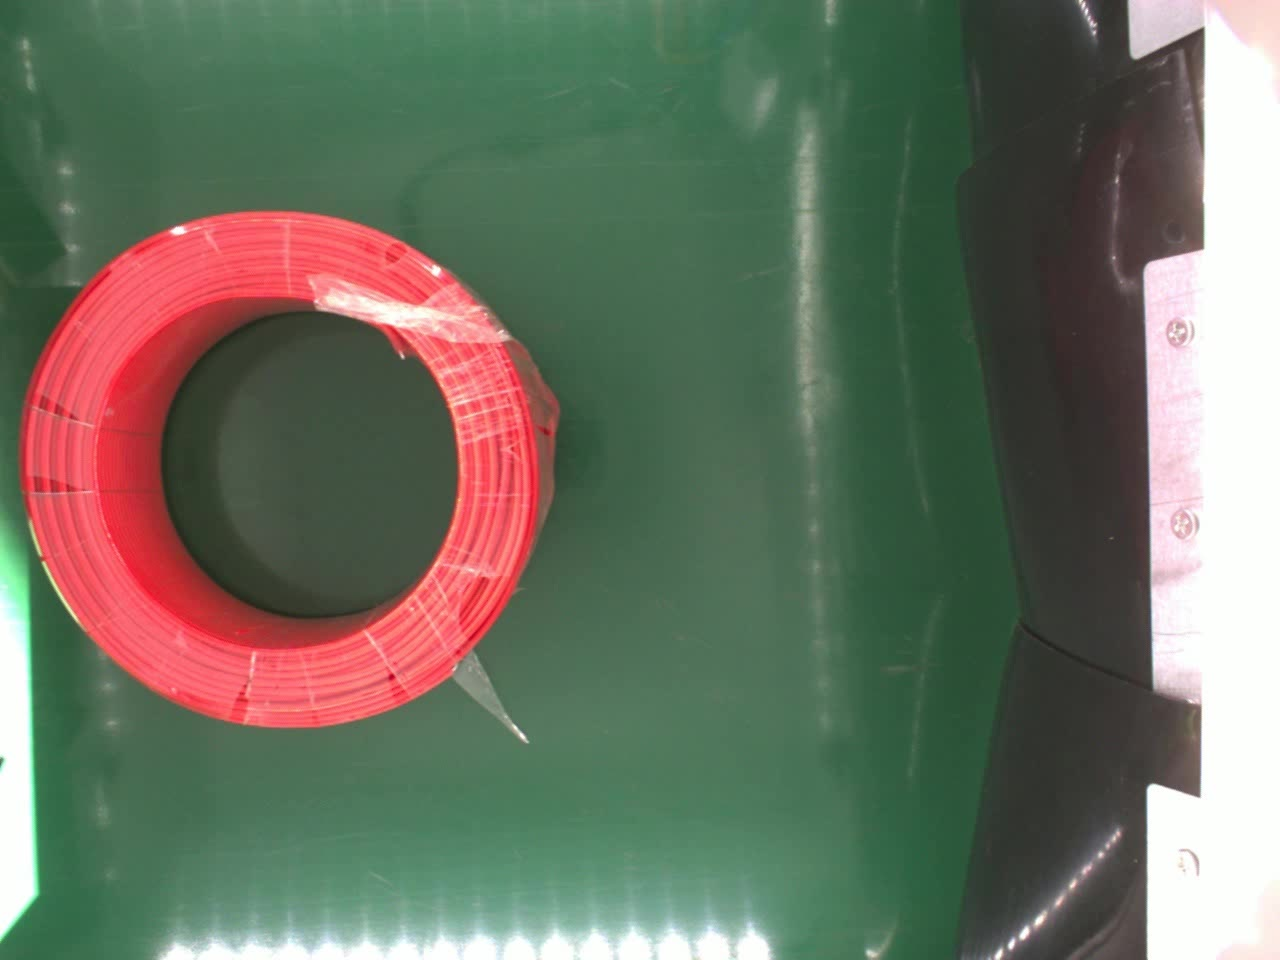red: (21, 208, 556, 728)
